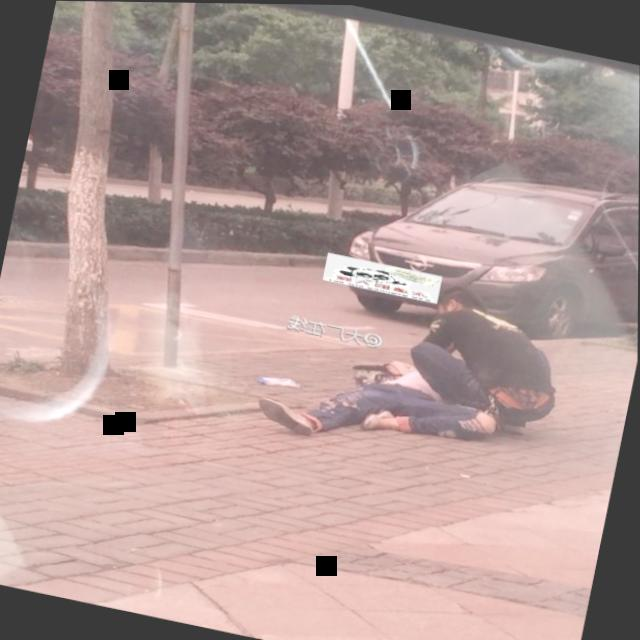Fall-Detected: (243, 323, 534, 484)
